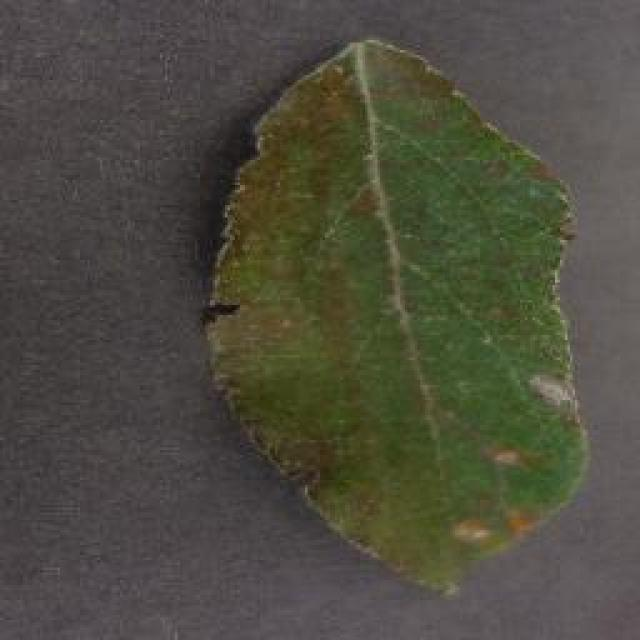apple scab disease: (198, 35, 592, 595)
